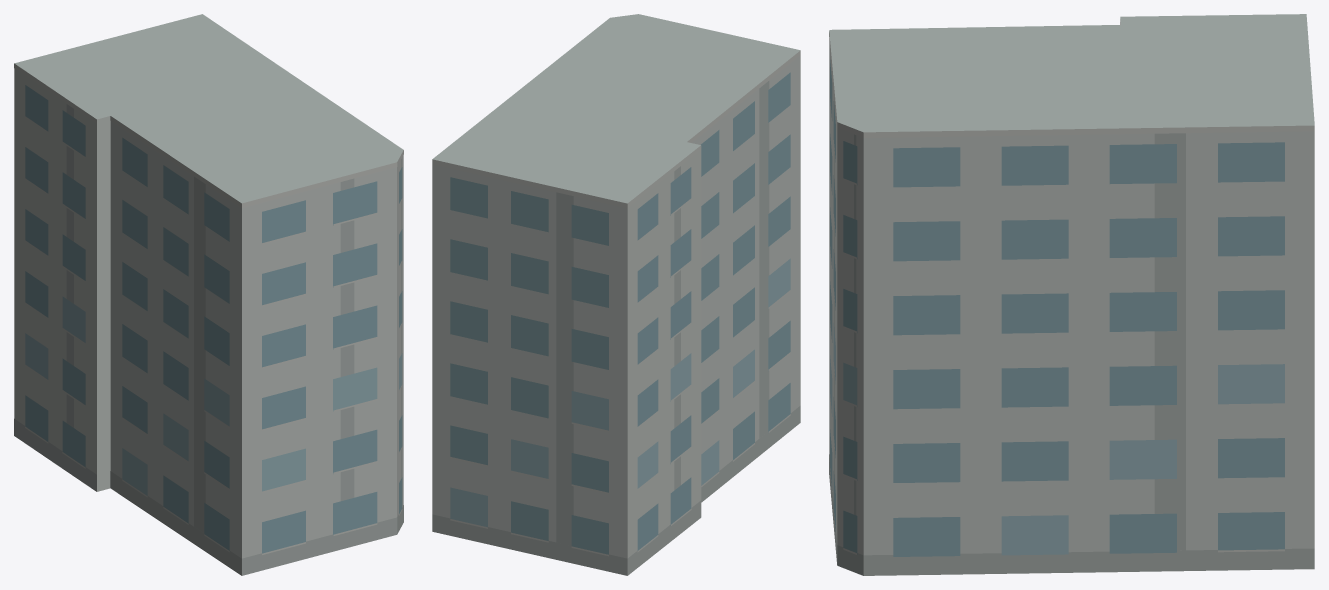
File: survey-upis-32577269.glb
3 renders of one model, left to right at view 1: azimuth 30°, elevation 25°; view 2: azimuth 150°, elevation 25°; view 3: azimuth 270°, elevation 25°, orthographic. The views are drawn at different scales.
Parts seen in each view (by area): view 1: survey-upis-32577269.tmp; view 2: survey-upis-32577269.tmp; view 3: survey-upis-32577269.tmp.
Part boxes in pixels (x1=…): survey-upis-32577269.tmp: x1=14, y1=14, x2=403, y2=575; survey-upis-32577269.tmp: x1=432, y1=14, x2=800, y2=575; survey-upis-32577269.tmp: x1=829, y1=14, x2=1314, y2=575.
Size of the model in its own units: 10.71 by 18.7 by 18.57.
